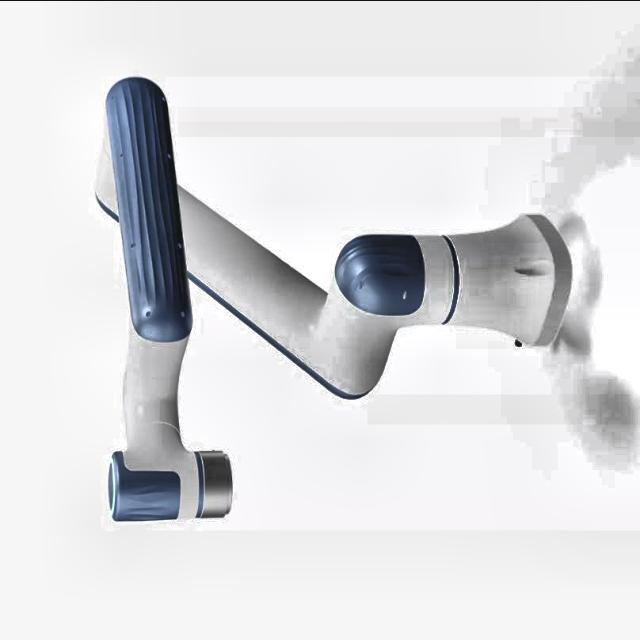robot: (92, 74, 572, 521)
